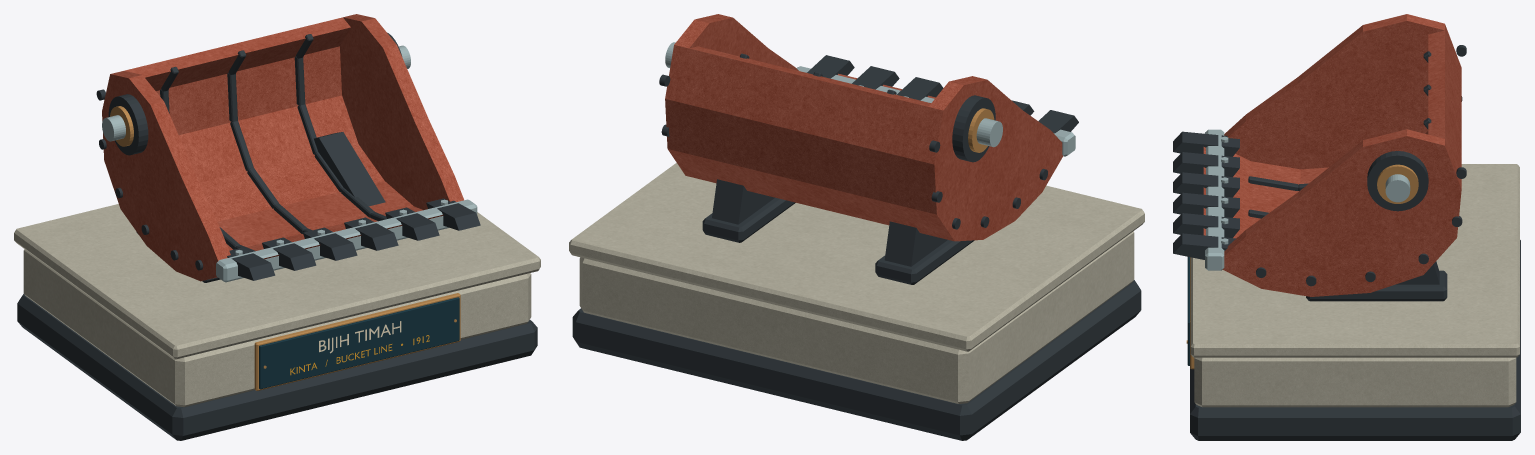
3 views of the same model, side by side, from view 1: azimuth 30°, elevation 25°; view 2: azimuth 150°, elevation 25°; view 3: azimuth 270°, elevation 25° (orthographic). The views are drawn at different scales.
Parts seen in each view (by area): view 1: Sandstone coping, Curved bucket shell, Cast cheeks, Shadow plinth, Quarried pedestal, Enamel plaque field, Manganese digging teeth, Interior wear bars, Thick cutting edge, Foundry cradles, Beaded plaque rim, Trunnion eyes (+1 smaller); view 2: Sandstone coping, Curved bucket shell, Quarried pedestal, Shadow plinth, Cast cheeks, Foundry cradles, Cast-iron shoe, Manganese digging teeth, Trunnion eyes, Trunnion shaft, Hot set cheek rivets, Thick cutting edge (+1 smaller); view 3: Cast cheeks, Sandstone coping, Quarried pedestal, Shadow plinth, Curved bucket shell, Manganese digging teeth, Cast-iron shoe, Trunnion eyes, Thick cutting edge, Trunnion brass bush, Interior wear bars, Hot set cheek rivets (+2 smaller).
Boxes of the visible parts, box(x1,y1,x2,y2) form: Sandstone coping: box(14, 204, 540, 359); Curved bucket shell: box(124, 17, 443, 259); Cast cheeks: box(102, 14, 463, 281); Shadow plinth: box(17, 294, 537, 440); Quarried pedestal: box(23, 249, 531, 407); Enamel plaque field: box(259, 297, 459, 389); Manganese digging teeth: box(227, 198, 480, 280); Interior wear bars: box(160, 34, 386, 251); Thick cutting edge: box(216, 199, 477, 282); Foundry cradles: box(220, 132, 385, 228); Beaded plaque rim: box(254, 293, 460, 390); Trunnion eyes: box(108, 32, 402, 155); Sandstone coping: box(569, 162, 1144, 351); Curved bucket shell: box(676, 46, 939, 237); Quarried pedestal: box(579, 231, 1134, 403); Shadow plinth: box(572, 280, 1141, 440); Cast cheeks: box(665, 14, 1062, 241); Foundry cradles: box(712, 179, 947, 266); Cast-iron shoe: box(702, 197, 974, 284); Manganese digging teeth: box(807, 55, 1078, 133); Trunnion eyes: box(952, 95, 995, 162); Trunnion shaft: box(665, 42, 1002, 147); Hot set cheek rivets: box(659, 74, 1047, 229); Thick cutting edge: box(796, 66, 1075, 156); Cast cheeks: box(1223, 14, 1461, 296); Sandstone coping: box(1190, 164, 1519, 357); Quarried pedestal: box(1194, 357, 1516, 407); Shadow plinth: box(1190, 240, 1520, 440); Curved bucket shell: box(1203, 29, 1461, 238); Manganese digging teeth: box(1173, 131, 1239, 259); Cast-iron shoe: box(1306, 270, 1447, 301); Trunnion eyes: box(1367, 151, 1428, 211); Thick cutting edge: box(1205, 129, 1224, 270); Trunnion brass bush: box(1377, 164, 1418, 203); Interior wear bars: box(1248, 51, 1431, 218); Hot set cheek rivets: box(1256, 45, 1466, 286).
Bounding box in the file's own units: 2.84 × 2.02 × 2.29.
8 materials, 2 textured.
